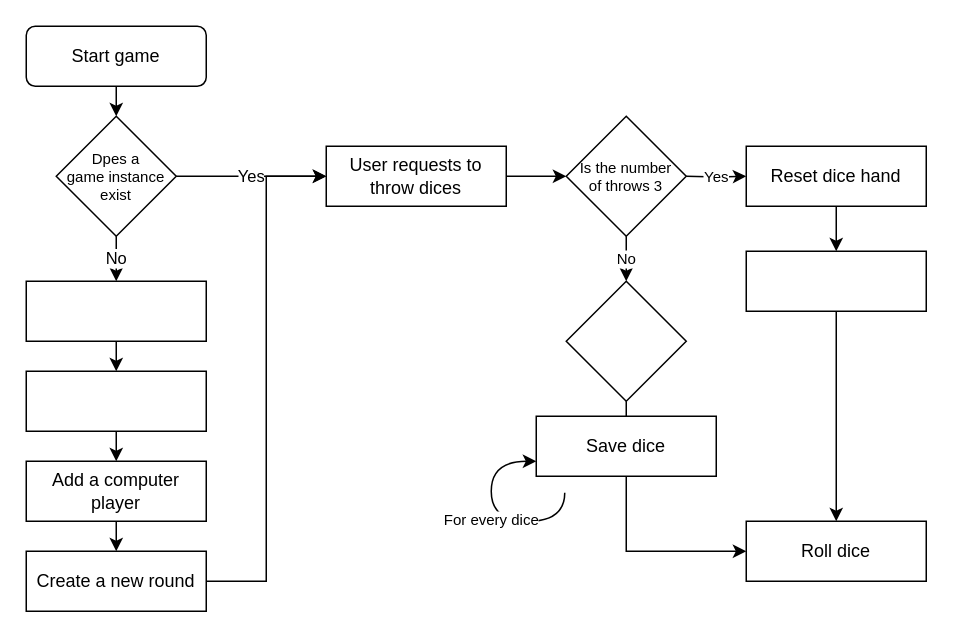
This 953x638 diagram has some shape labels left out. Each missing label, with the box of its shape:
Add a human player: (25, 370, 206, 431)
Create a new game instance: (25, 280, 206, 341)
Does the user wish to save dices: (565, 280, 686, 401)
Set the number of throws to 1: (745, 250, 926, 311)
